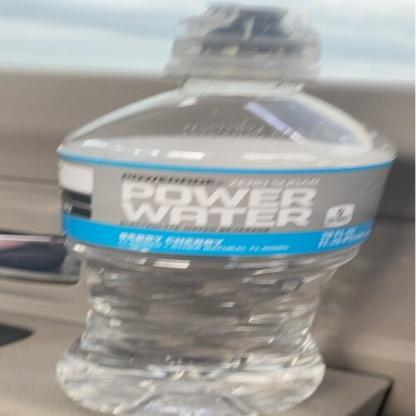bottle: (4, 0, 415, 416)
